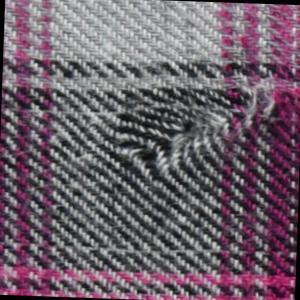Damage: (106, 45, 291, 205)
